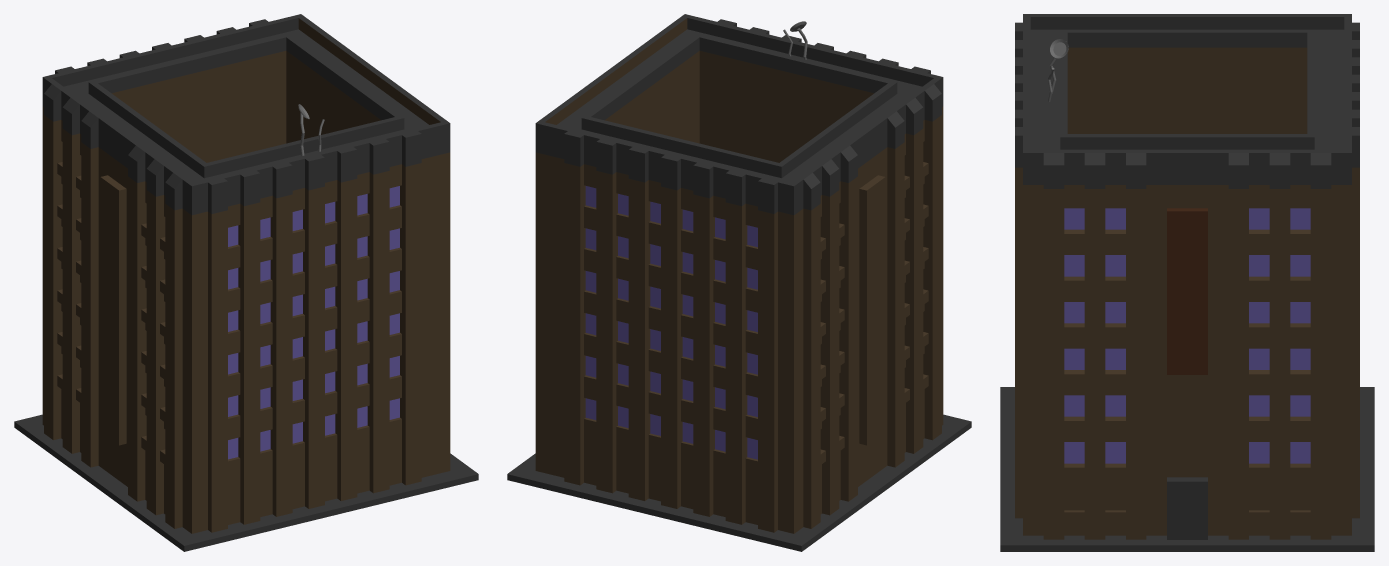
The picture shows the model from 3 angles, left to right: view 1: azimuth 30°, elevation 25°; view 2: azimuth 150°, elevation 25°; view 3: azimuth 270°, elevation 25°; orthographic projection. The views are drawn at different scales.
Visible parts, largest first — view 1: Cube.009, Floor.004; view 2: Cube.009, Floor.004; view 3: Cube.009, Floor.004.
Part boxes in pixels (left/top/right/bottom): Cube.009: left=42, top=14, right=450, bottom=533; Floor.004: left=14, top=414, right=478, bottom=551; Cube.009: left=535, top=14, right=943, bottom=533; Floor.004: left=507, top=414, right=971, bottom=551; Cube.009: left=1015, top=14, right=1359, bottom=539; Floor.004: left=1000, top=387, right=1374, bottom=551.
Size of the model in its own units: 800 by 1016 by 800.
